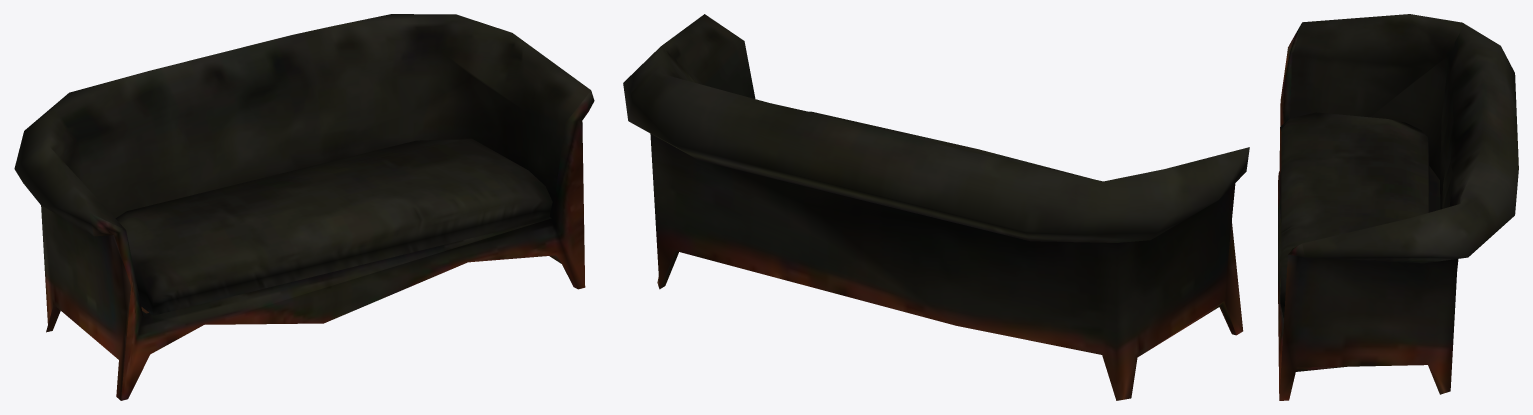
File: sofa_02_lod1.glb
3 views of the same model, side by side, from view 1: azimuth 30°, elevation 25°; view 2: azimuth 150°, elevation 25°; view 3: azimuth 270°, elevation 25° (orthographic). The views are drawn at different scales.
Parts seen in each view (by area): view 1: sofa_02_Base, sofa_02_Seat; view 2: sofa_02_Base, sofa_02_Seat; view 3: sofa_02_Base, sofa_02_Seat.
Boxes of the visible parts, x1,y1,x2,y2 form: sofa_02_Base: (14, 14, 594, 400); sofa_02_Seat: (115, 138, 552, 315); sofa_02_Base: (623, 14, 1249, 400); sofa_02_Seat: (809, 111, 1091, 178); sofa_02_Base: (1278, 14, 1518, 400); sofa_02_Seat: (1280, 112, 1429, 317).
Bounding box in the file's own units: 1.79 × 0.7095 × 0.7998.
Materials: 1 (1 with a texture image).
